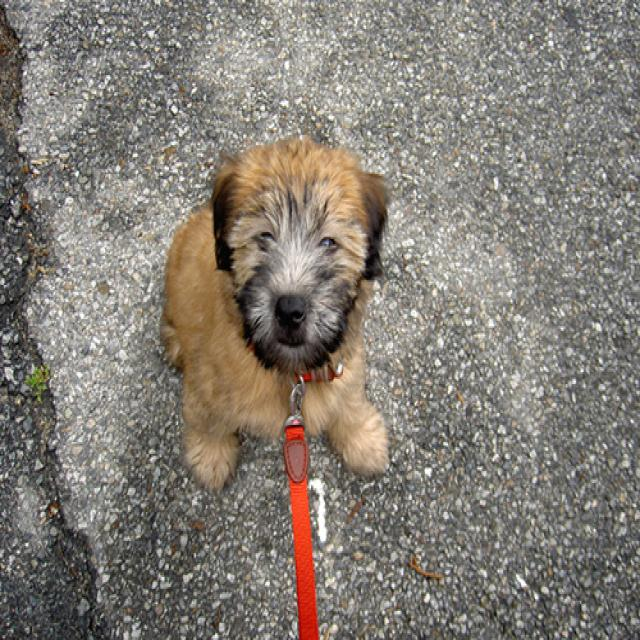dog-wheaten_terrier: (146, 125, 398, 492)
